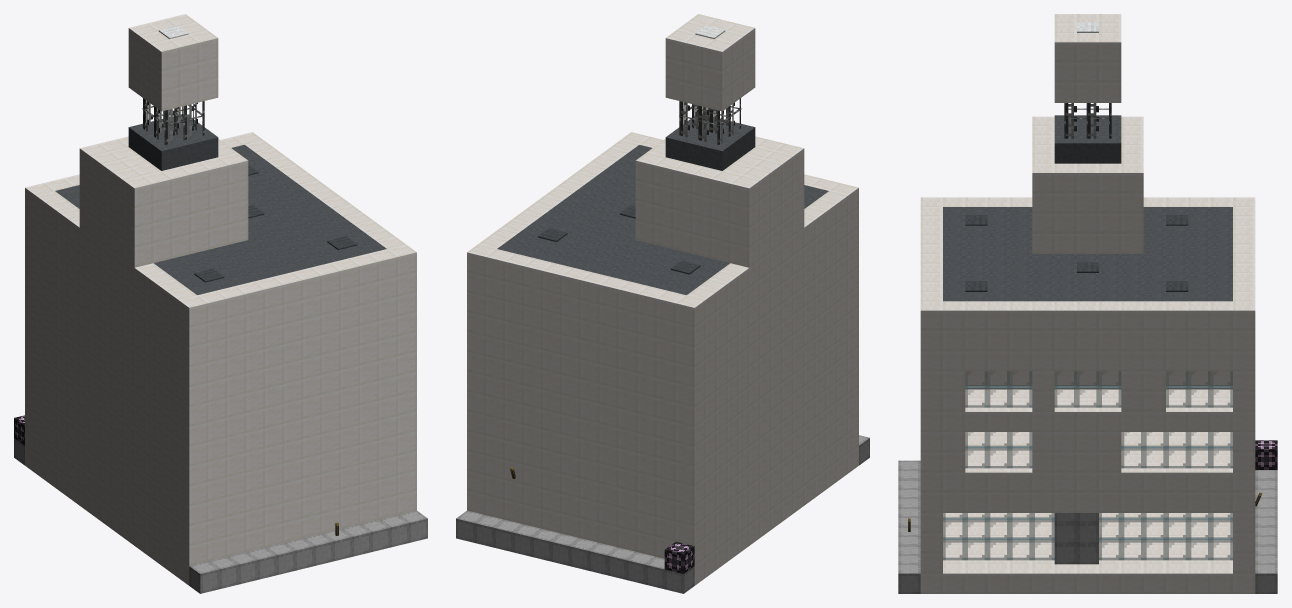
Rendered from building-2.glb.
The picture shows the model from 3 angles, left to right: view 1: azimuth 30°, elevation 25°; view 2: azimuth 150°, elevation 25°; view 3: azimuth 270°, elevation 25°; orthographic projection.
Visible parts, largest first — view 1: node_15, node_12, node_10, node_18, node_6, node_2, node_4, node_11; view 2: node_12, node_18, node_15, node_10, node_4, node_8, node_11, node_2; view 3: node_12, node_8, node_18, node_4, node_6, node_10, node_15, node_2, node_16, node_3, node_7, node_13 (+3 smaller).
Boxes of the visible parts, x1=… form: node_15: x1=145, y1=356, x2=408, y2=593; node_12: x1=25, y1=14, x2=353, y2=374; node_10: x1=145, y1=225, x2=397, y2=406; node_18: x1=14, y1=287, x2=145, y2=553; node_6: x1=398, y1=351, x2=427, y2=542; node_2: x1=355, y1=220, x2=416, y2=356; node_4: x1=234, y1=132, x2=372, y2=224; node_11: x1=142, y1=98, x2=204, y2=144; node_12: x1=486, y1=14, x2=815, y2=406; node_18: x1=475, y1=319, x2=815, y2=593; node_15: x1=815, y1=287, x2=869, y2=497; node_10: x1=607, y1=136, x2=858, y2=318; node_4: x1=467, y1=164, x2=605, y2=356; node_8: x1=456, y1=351, x2=485, y2=542; node_11: x1=679, y1=98, x2=741, y2=144; node_2: x1=588, y1=132, x2=649, y2=168; node_12: x1=1010, y1=14, x2=1255, y2=301; node_8: x1=1010, y1=402, x2=1277, y2=593; node_18: x1=1010, y1=371, x2=1277, y2=564; node_4: x1=1010, y1=301, x2=1255, y2=411; node_6: x1=898, y1=402, x2=1009, y2=593; node_10: x1=920, y1=197, x2=1009, y2=301; node_15: x1=898, y1=371, x2=1009, y2=564; node_2: x1=920, y1=301, x2=1009, y2=411; node_16: x1=1010, y1=513, x2=1232, y2=560; node_3: x1=1010, y1=371, x2=1232, y2=407; node_7: x1=1010, y1=432, x2=1232, y2=468; node_13: x1=943, y1=513, x2=1009, y2=560.
Bounding box in the file's own units: 12 × 24.06 × 17.
Materials: 3 (3 with a texture image).
